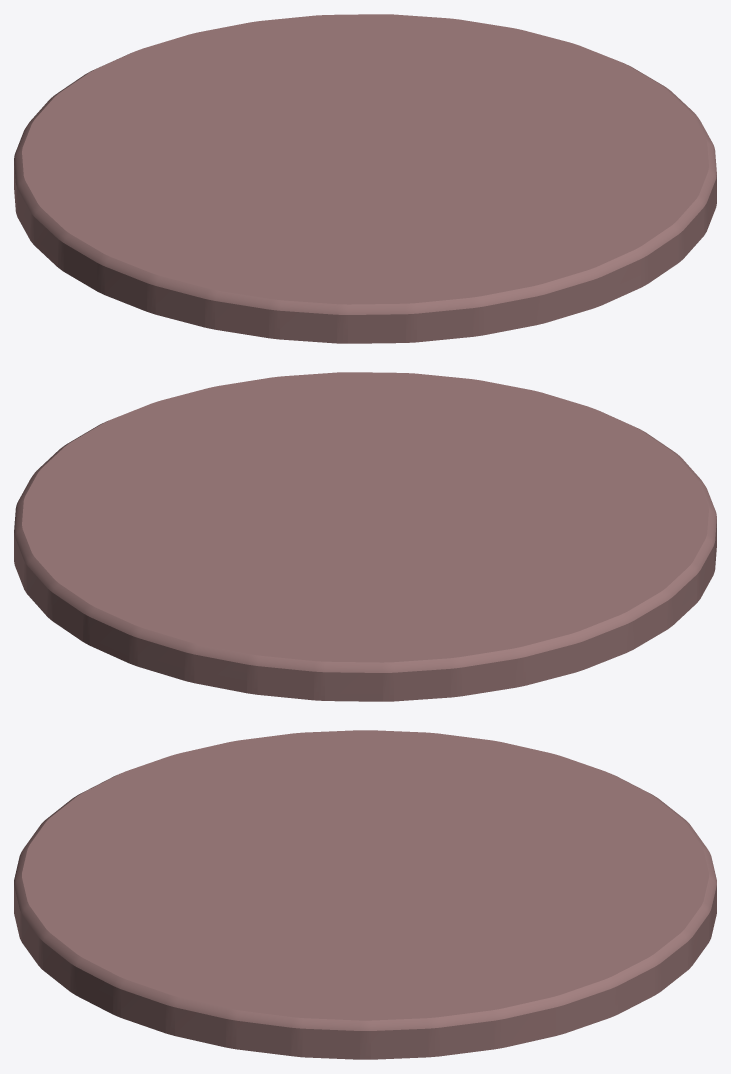
The model's file is mediumRarePattyHalf.fbx.
The picture shows the model from 3 angles, top to bottom: view 1: azimuth 30°, elevation 25°; view 2: azimuth 150°, elevation 25°; view 3: azimuth 270°, elevation 25°; orthographic projection.
Visible parts, largest first — view 1: mediumRarePattyHalf; view 2: mediumRarePattyHalf; view 3: mediumRarePattyHalf.
Part boxes in pixels (box(x1,y1,x2,y2)): mediumRarePattyHalf: box(14, 14, 716, 343); mediumRarePattyHalf: box(14, 372, 716, 701); mediumRarePattyHalf: box(14, 730, 716, 1059).
Size of the model in its own units: 8.88 by 0.5 by 8.88.
